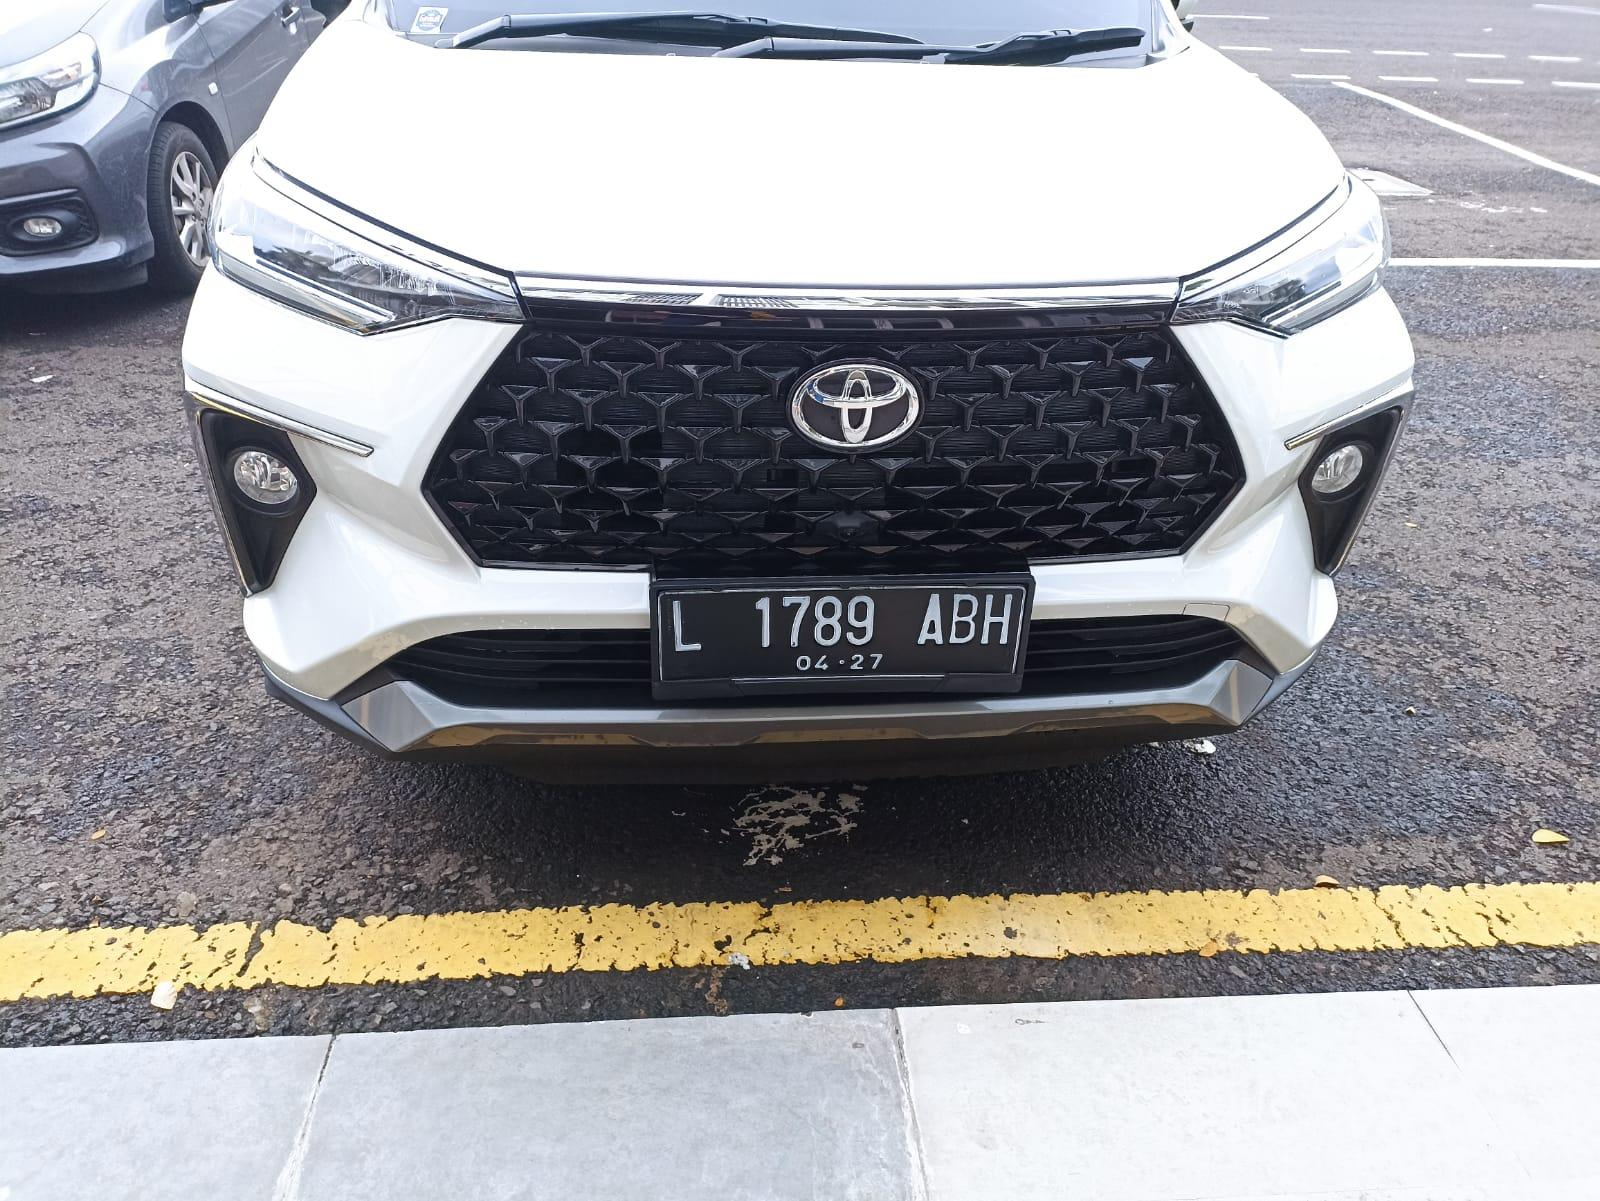plat: (654, 575, 1035, 700)
